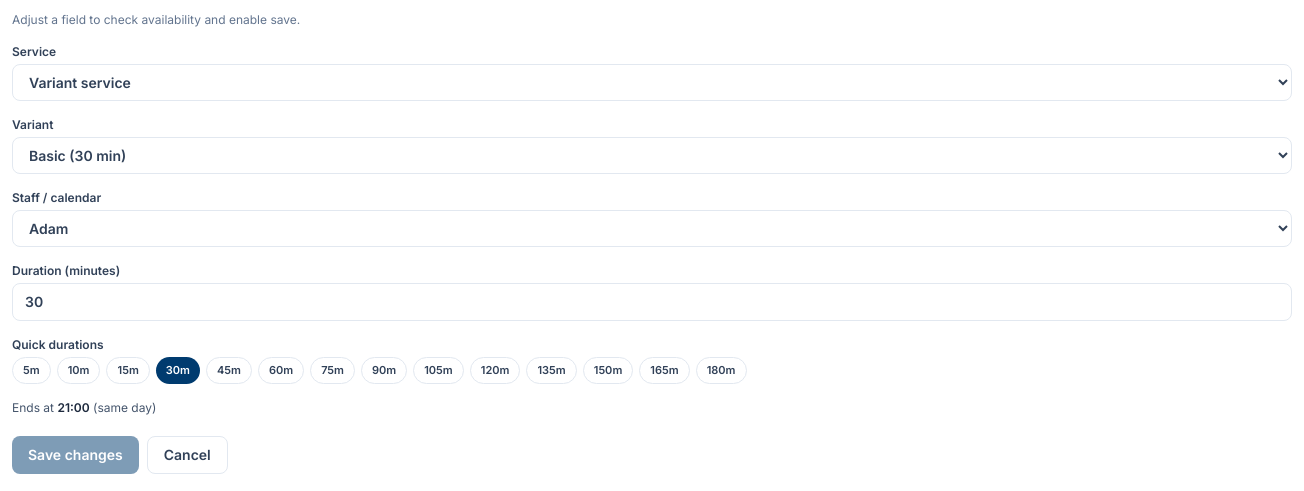
StaffAppointmentModifyForm: duration follows the variant › switching back returns the duration to the original option
This screenshot has width=1304, height=491.
Select "Premium (60 min)" in the dropdown labelled "Variant" at (652, 156), box [12,137,1292,174]
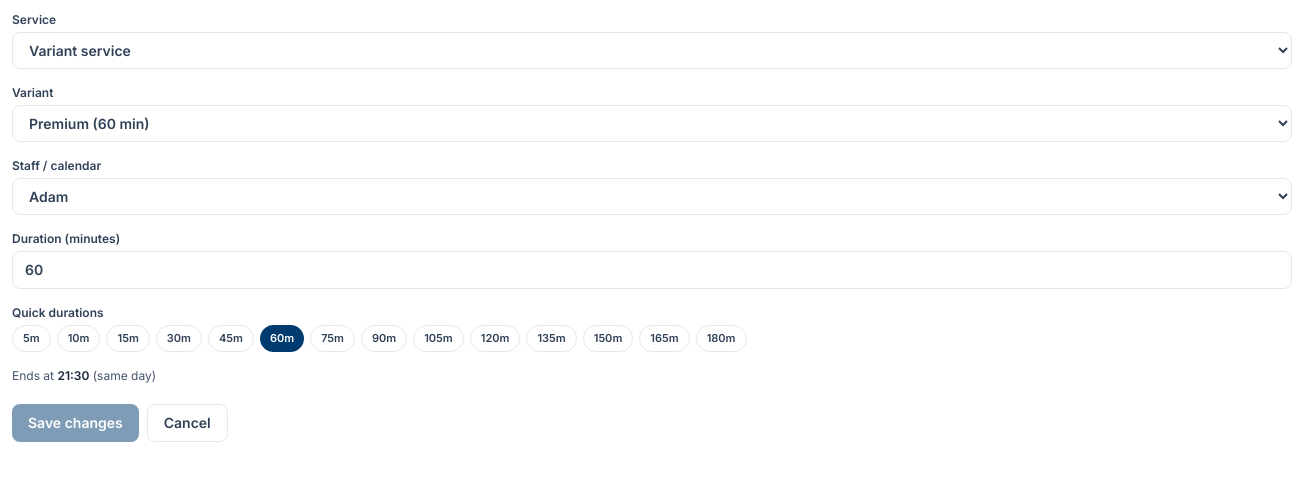
Result: the number field labelled "Duration (minutes)" holds "60" at [12,251,1292,289]
Select "Basic (30 min)" in the dropdown labelled "Variant" at (652, 124), box [12,105,1292,142]
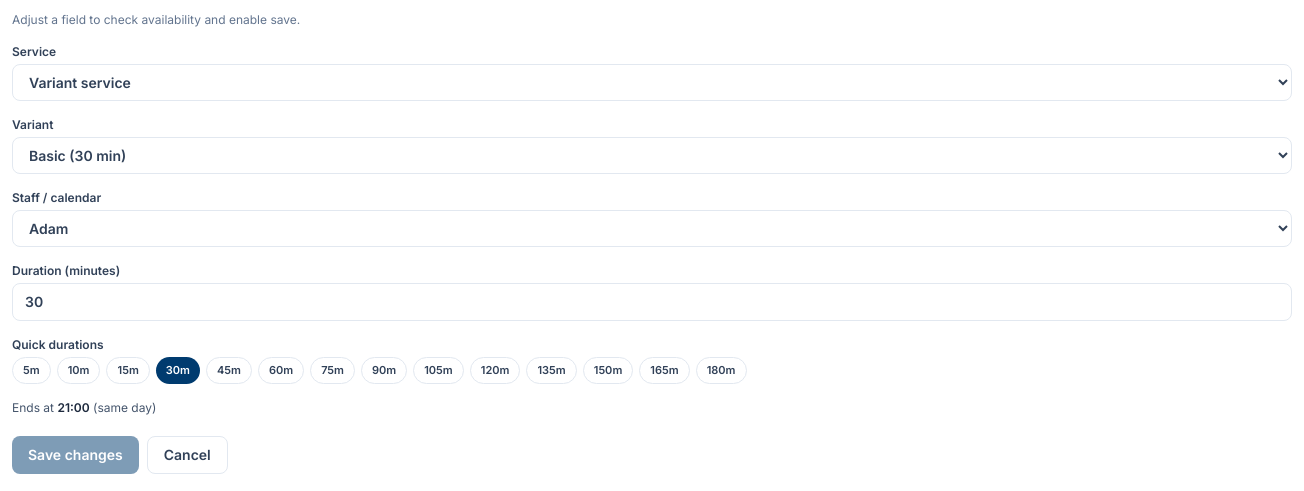
Result: the number field labelled "Duration (minutes)" holds "30" at [12,283,1292,321]
